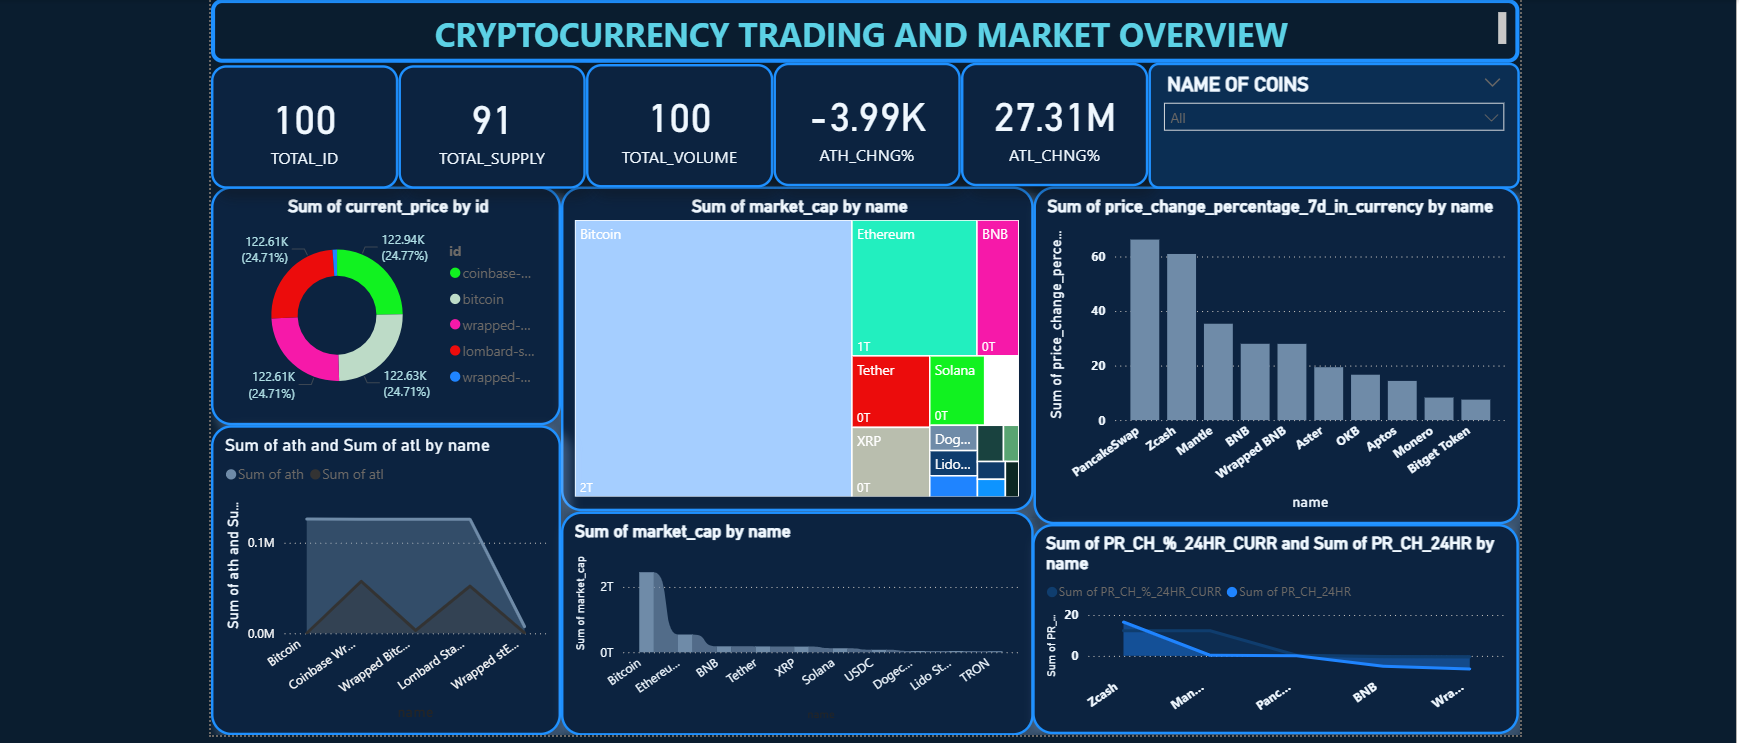

What the dashboard file says about the page in this screenshot:
{"tool":"powerbi","page":{"name":"dashboard","canvas":[1280,720],"ordinal":12},"visuals":[{"type":"textbox","box":[0,0,1280.3,62.4],"z":0},{"type":"donutChart","fields":{"Category":["markets?vs_currency=usd&order=market_cap_desc&per_page=100&page=1&price_change_p.id"],"Y":["Sum(markets?vs_currency=usd&order=market_cap_desc&per_page=100&page=1&price_change_p.current_price)"]},"box":[0,183.4,342.4,233.6],"z":1000},{"type":"treemap","fields":{"Group":["markets?vs_currency=usd&order=market_cap_desc&per_page=100&page=1&price_change_p.name"],"Values":["Sum(markets?vs_currency=usd&order=market_cap_desc&per_page=100&page=1&price_change_p.market_cap)"]},"box":[342.4,183.4,462.2,317.9],"z":2000},{"type":"areaChart","fields":{"Category":["markets?vs_currency=usd&order=market_cap_desc&per_page=100&page=1&price_change_p.name"],"Y":["Sum(markets?vs_currency=usd&order=market_cap_desc&per_page=100&page=1&price_change_p.ath)","Sum(markets?vs_currency=usd&order=market_cap_desc&per_page=100&page=1&price_change_p.atl)"]},"box":[0,417,342.4,303.3],"z":3000},{"type":"clusteredColumnChart","fields":{"Category":["markets?vs_currency=usd&order=market_cap_desc&per_page=100&page=1&price_change_p.name"],"Y":["Sum(markets?vs_currency=usd&order=market_cap_desc&per_page=100&page=1&price_change_p.price_change_percentage_7d_in_curre"]},"box":[804.1,183.9,476.2,330.7],"z":4000},{"type":"ribbonChart","fields":{"Category":["markets?vs_currency=usd&order=market_cap_desc&per_page=100&page=1&price_change_p.name"],"Y":["Sum(markets?vs_currency=usd&order=market_cap_desc&per_page=100&page=1&price_change_p.market_cap)"]},"box":[342.4,501.4,462.2,218.9],"z":5000},{"type":"card","fields":{"Values":["Count(markets?vs_currency=usd&order=market_cap_desc&per_page=100&page=1&price_change_p.id)"]},"box":[0,64.8,183.4,121.1],"z":6000},{"type":"card","fields":{"Values":["Count(markets?vs_currency=usd&order=market_cap_desc&per_page=100&page=1&price_change_p.total_supply)"]},"box":[183.4,64.8,183.4,121.1],"z":7000},{"type":"card","fields":{"Values":["Count(markets?vs_currency=usd&order=market_cap_desc&per_page=100&page=1&price_change_p.total_volume)"]},"box":[366.8,63.6,183.4,121.1],"z":8000},{"type":"card","fields":{"Values":["Sum(markets?vs_currency=usd&order=market_cap_desc&per_page=100&page=1&price_change_p.ath_change_percentage)"]},"box":[550.3,62.4,183.4,121.1],"z":9000},{"type":"card","fields":{"Values":["Sum(markets?vs_currency=usd&order=market_cap_desc&per_page=100&page=1&price_change_p.atl_change_percentage)"]},"box":[733.7,62.4,183.4,121.1],"z":10000},{"type":"areaChart","fields":{"Category":["markets?vs_currency=usd&order=market_cap_desc&per_page=100&page=1&price_change_p.name"],"Y":["Sum(markets?vs_currency=usd&order=market_cap_desc&per_page=100&page=1&price_change_p.PR_CH_%_24HR_CURR)","Sum(markets?vs_currency=usd&order=market_cap_desc&per_page=100&page=1&price_change_p.PR_CH_24HR)"]},"box":[804,514.2,476.3,205.4],"z":11000},{"type":"slicer","fields":{"Values":["markets?vs_currency=usd&order=market_cap_desc&per_page=100&page=1&price_change_p.name"]},"box":[917.1,62.4,363.2,123.5],"z":12000}]}

Visuals, with their boxes on the page's 1280x720 design canvas (x1, y1, x2, y2). These are canvas units, not pixel positions in the 1739x743 screenshot, which may show the page scaled, cropped or inside an application window:
textbox: [0,0,1280,62]
donutChart - markets?vs_currency=usd&order=market_cap_desc&per_page=100&page=1&price_change_p.id x Sum(markets?vs_currency=usd&order=market_cap_desc&per_page=100&page=1&price_change_p.current_price): [0,183,342,417]
treemap - markets?vs_currency=usd&order=market_cap_desc&per_page=100&page=1&price_change_p.name x Sum(markets?vs_currency=usd&order=market_cap_desc&per_page=100&page=1&price_change_p.market_cap): [342,183,805,501]
areaChart - markets?vs_currency=usd&order=market_cap_desc&per_page=100&page=1&price_change_p.name x Sum(markets?vs_currency=usd&order=market_cap_desc&per_page=100&page=1&price_change_p.ath): [0,417,342,720]
clusteredColumnChart - markets?vs_currency=usd&order=market_cap_desc&per_page=100&page=1&price_change_p.name x Sum(markets?vs_currency=usd&order=market_cap_desc&per_page=100&page=1&price_change_p.price_change_percentage_7d_in_curre: [804,184,1280,515]
ribbonChart - markets?vs_currency=usd&order=market_cap_desc&per_page=100&page=1&price_change_p.name x Sum(markets?vs_currency=usd&order=market_cap_desc&per_page=100&page=1&price_change_p.market_cap): [342,501,805,720]
card - Count(markets?vs_currency=usd&order=market_cap_desc&per_page=100&page=1&price_change_p.id): [0,65,183,186]
card - Count(markets?vs_currency=usd&order=market_cap_desc&per_page=100&page=1&price_change_p.total_supply): [183,65,367,186]
card - Count(markets?vs_currency=usd&order=market_cap_desc&per_page=100&page=1&price_change_p.total_volume): [367,64,550,185]
card - Sum(markets?vs_currency=usd&order=market_cap_desc&per_page=100&page=1&price_change_p.ath_change_percentage): [550,62,734,184]
card - Sum(markets?vs_currency=usd&order=market_cap_desc&per_page=100&page=1&price_change_p.atl_change_percentage): [734,62,917,184]
areaChart - markets?vs_currency=usd&order=market_cap_desc&per_page=100&page=1&price_change_p.name x Sum(markets?vs_currency=usd&order=market_cap_desc&per_page=100&page=1&price_change_p.PR_CH_%_24HR_CURR): [804,514,1280,720]
slicer - markets?vs_currency=usd&order=market_cap_desc&per_page=100&page=1&price_change_p.name: [917,62,1280,186]
